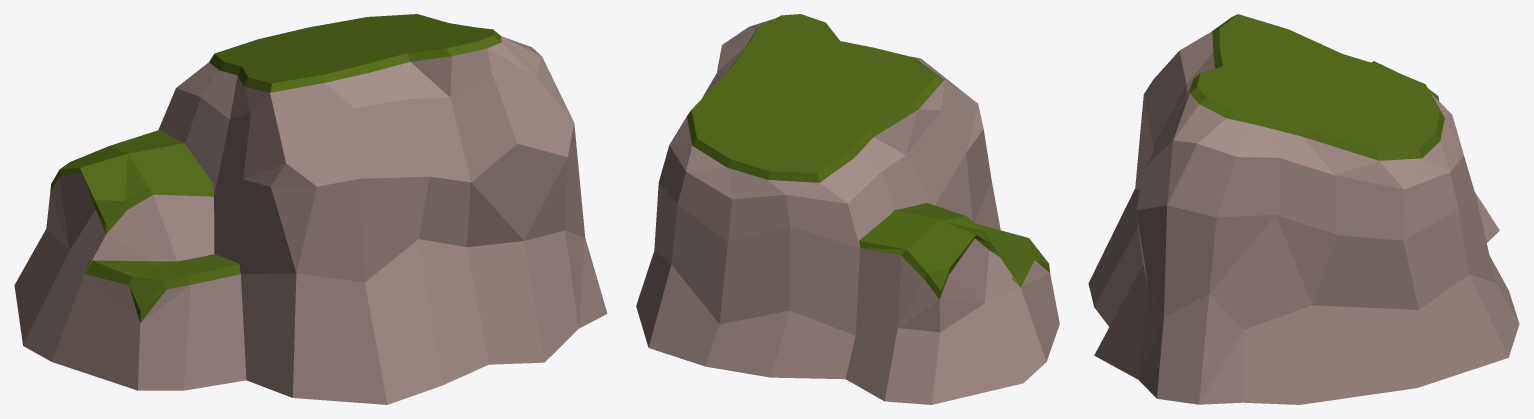
Rendered from Rock_10.fbx.
3 views of the same model, side by side, from view 1: azimuth 30°, elevation 25°; view 2: azimuth 150°, elevation 25°; view 3: azimuth 270°, elevation 25° (orthographic). The views are drawn at different scales.
Parts seen in each view (by area): view 1: Rock_10; view 2: Rock_10; view 3: Rock_10.
Part boxes in pixels (x1,y1,x2,y2): Rock_10: (14,14,607,404); Rock_10: (636,14,1059,404); Rock_10: (1088,14,1519,404).
Bounding box in the file's own units: 6.05 × 3.44 × 5.02.
